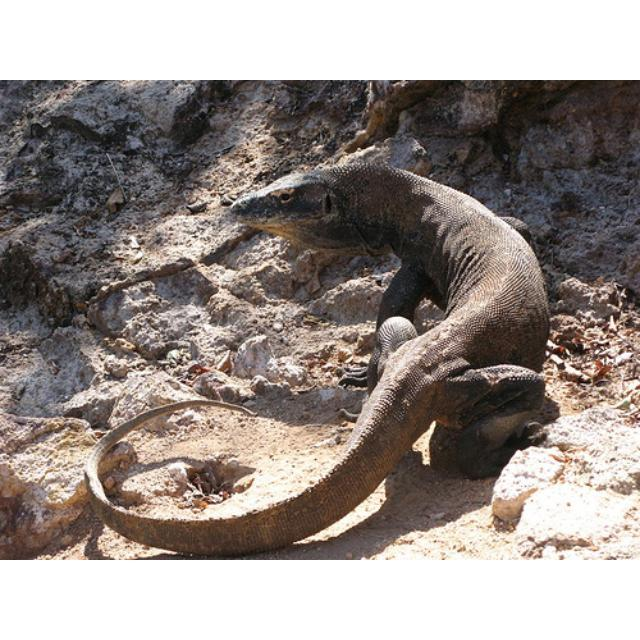KomodoDragon: (81, 165, 543, 551)
